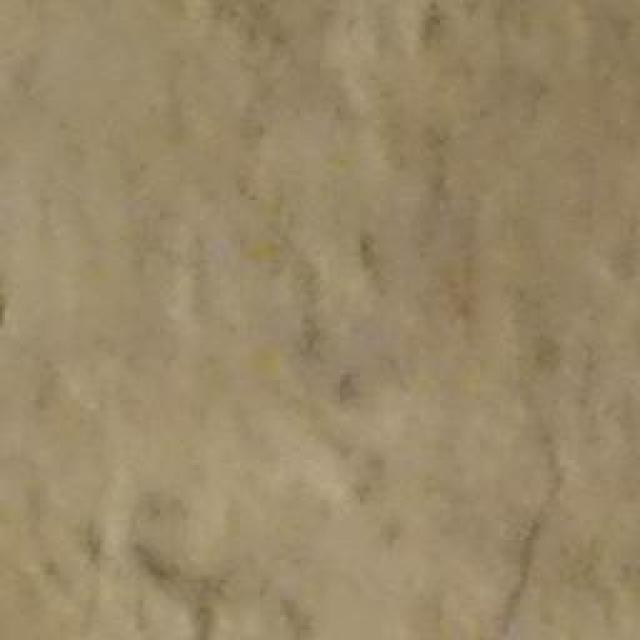Longitudinal: (490, 410, 556, 640)
